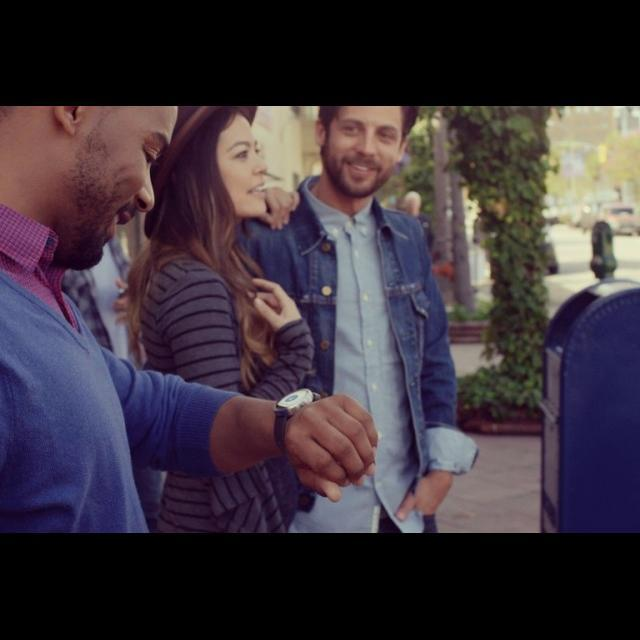watch: (272, 358, 315, 444)
